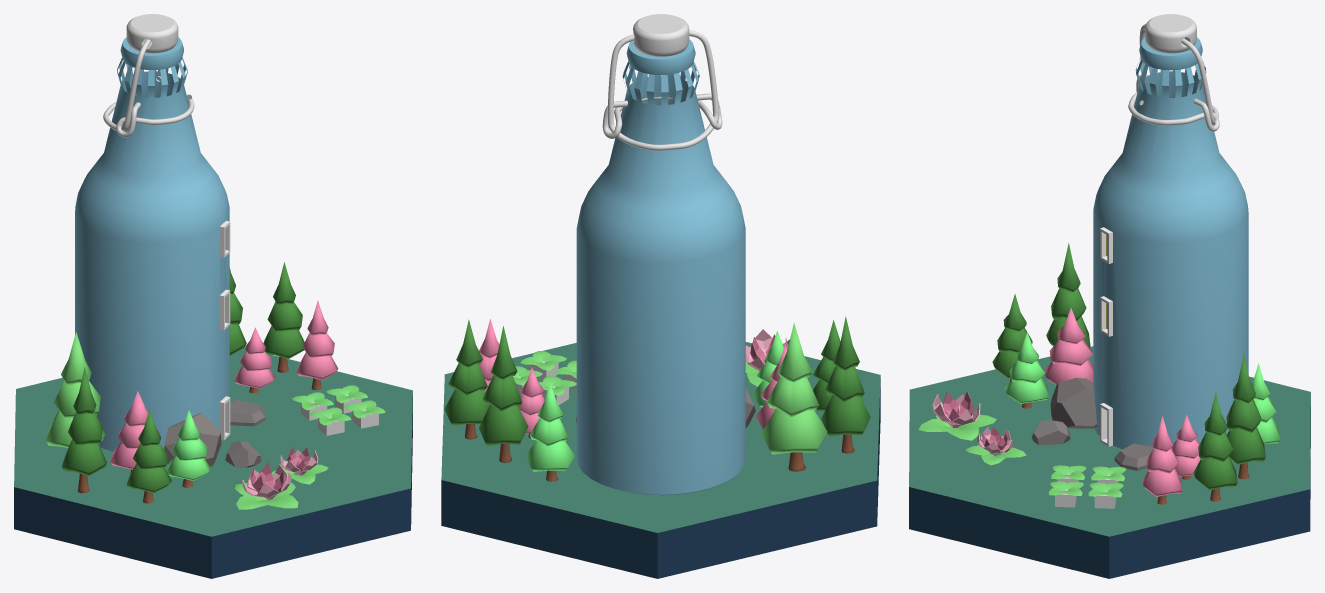
The model's file is Macro - Lighthouse BARU.fbx.
3 renders of one model, left to right at view 1: azimuth 30°, elevation 25°; view 2: azimuth 150°, elevation 25°; view 3: azimuth 270°, elevation 25°, orthographic. The views are drawn at different scales.
Visible parts, largest first — view 1: Cylinder.154, Cylinder.046, Tree_Spruce_tiny_01.006, Tree_Spruce_tiny_01.011, Tree_Spruce_tiny_01.005, Tree_Spruce_tiny_01.014, Tree_Spruce_tiny_01.015, Tree_Spruce_tiny_01.016, Cylinder.044, Tree_Spruce_tiny_01.009, Tree_Spruce_tiny_01.013, Rock Type2 04 mesh.002 (+8 smaller); view 2: Cylinder.046, Cylinder.154, Tree_Spruce_tiny_01.005, Tree_Spruce_tiny_01.012, Tree_Spruce_tiny_01.006, Tree_Spruce_tiny_01.011, Tree_Spruce_tiny_01.010, Cylinder.044, BezierCurve.001, Tree_Spruce_tiny_01.014, Tree_Spruce_tiny_01.009, BezierCurve.003 (+3 smaller); view 3: Cylinder.046, Cylinder.154, Tree_Spruce_tiny_01.012, Tree_Spruce_tiny_01.011, Tree_Spruce_tiny_01.013, Rock Type2 04 mesh.002, Tree_Spruce_tiny_01.015, Tree_Spruce_tiny_01.006, Tree_Spruce_tiny_01.016, Cylinder.044, Tree_Spruce_tiny_01.014, Tree_Spruce_tiny_01.010 (+9 smaller).
Part boxes in pixels (left/top/right/bottom): Cylinder.154: left=14, top=348, right=412, bottom=578; Cylinder.046: left=75, top=37, right=230, bottom=451; Tree_Spruce_tiny_01.006: left=62, top=367, right=106, bottom=493; Tree_Spruce_tiny_01.011: left=263, top=262, right=304, bottom=372; Tree_Spruce_tiny_01.005: left=45, top=332, right=105, bottom=448; Tree_Spruce_tiny_01.014: left=126, top=409, right=171, bottom=503; Tree_Spruce_tiny_01.015: left=296, top=300, right=338, bottom=389; Tree_Spruce_tiny_01.016: left=166, top=410, right=211, bottom=487; Cylinder.044: left=126, top=14, right=178, bottom=53; Tree_Spruce_tiny_01.009: left=234, top=327, right=275, bottom=393; Tree_Spruce_tiny_01.013: left=110, top=391, right=160, bottom=473; Rock Type2 04 mesh.002: left=164, top=412, right=221, bottom=466; Cylinder.046: left=576, top=39, right=745, bottom=495; Cylinder.154: left=441, top=342, right=880, bottom=578; Tree_Spruce_tiny_01.005: left=761, top=322, right=827, bottom=471; Tree_Spruce_tiny_01.012: left=479, top=326, right=528, bottom=462; Tree_Spruce_tiny_01.006: left=821, top=316, right=870, bottom=453; Tree_Spruce_tiny_01.011: left=444, top=319, right=489, bottom=439; Tree_Spruce_tiny_01.010: left=525, top=382, right=574, bottom=481; Cylinder.044: left=633, top=14, right=689, bottom=56; BezierCurve.001: left=607, top=30, right=718, bottom=150; Tree_Spruce_tiny_01.014: left=813, top=320, right=840, bottom=411; Tree_Spruce_tiny_01.009: left=518, top=367, right=544, bottom=438; BezierCurve.003: left=602, top=93, right=722, bottom=138; Cylinder.046: left=1093, top=37, right=1248, bottom=449; Cylinder.154: left=909, top=346, right=1310, bottom=578; Tree_Spruce_tiny_01.012: left=1226, top=354, right=1265, bottom=479; Tree_Spruce_tiny_01.011: left=1193, top=392, right=1237, bottom=501; Tree_Spruce_tiny_01.013: left=1044, top=307, right=1093, bottom=384; Rock Type2 04 mesh.002: left=1050, top=378, right=1096, bottom=428; Tree_Spruce_tiny_01.015: left=1142, top=416, right=1182, bottom=504; Tree_Spruce_tiny_01.006: left=1046, top=243, right=1090, bottom=347; Tree_Spruce_tiny_01.016: left=1004, top=332, right=1048, bottom=408; Cylinder.044: left=1145, top=14, right=1196, bottom=53; Tree_Spruce_tiny_01.014: left=992, top=294, right=1032, bottom=381; Tree_Spruce_tiny_01.010: left=1252, top=363, right=1280, bottom=444.
Bounding box in the file's own units: 197 × 210 × 172.
